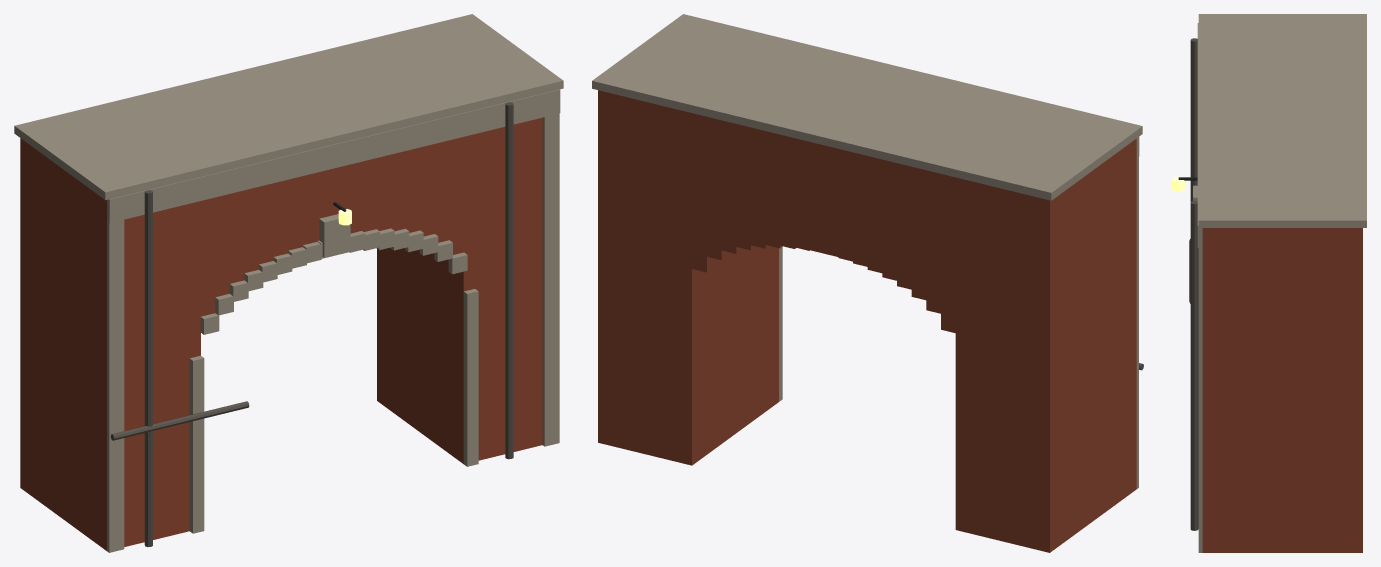
Rendered from brick_arch.glb.
3 renders of one model, left to right at view 1: azimuth 30°, elevation 25°; view 2: azimuth 150°, elevation 25°; view 3: azimuth 270°, elevation 25°, orthographic. The views are drawn at different scales.
Parts seen in each view (by area): view 1: brick_arch; view 2: brick_arch; view 3: brick_arch.
Part boxes in pixels (x1,y1,x2,y2): brick_arch: (14,14,563,552); brick_arch: (592,14,1143,552); brick_arch: (1172,14,1366,552).
Bounding box in the file's own units: 12.2 × 9.2 × 4.86.
